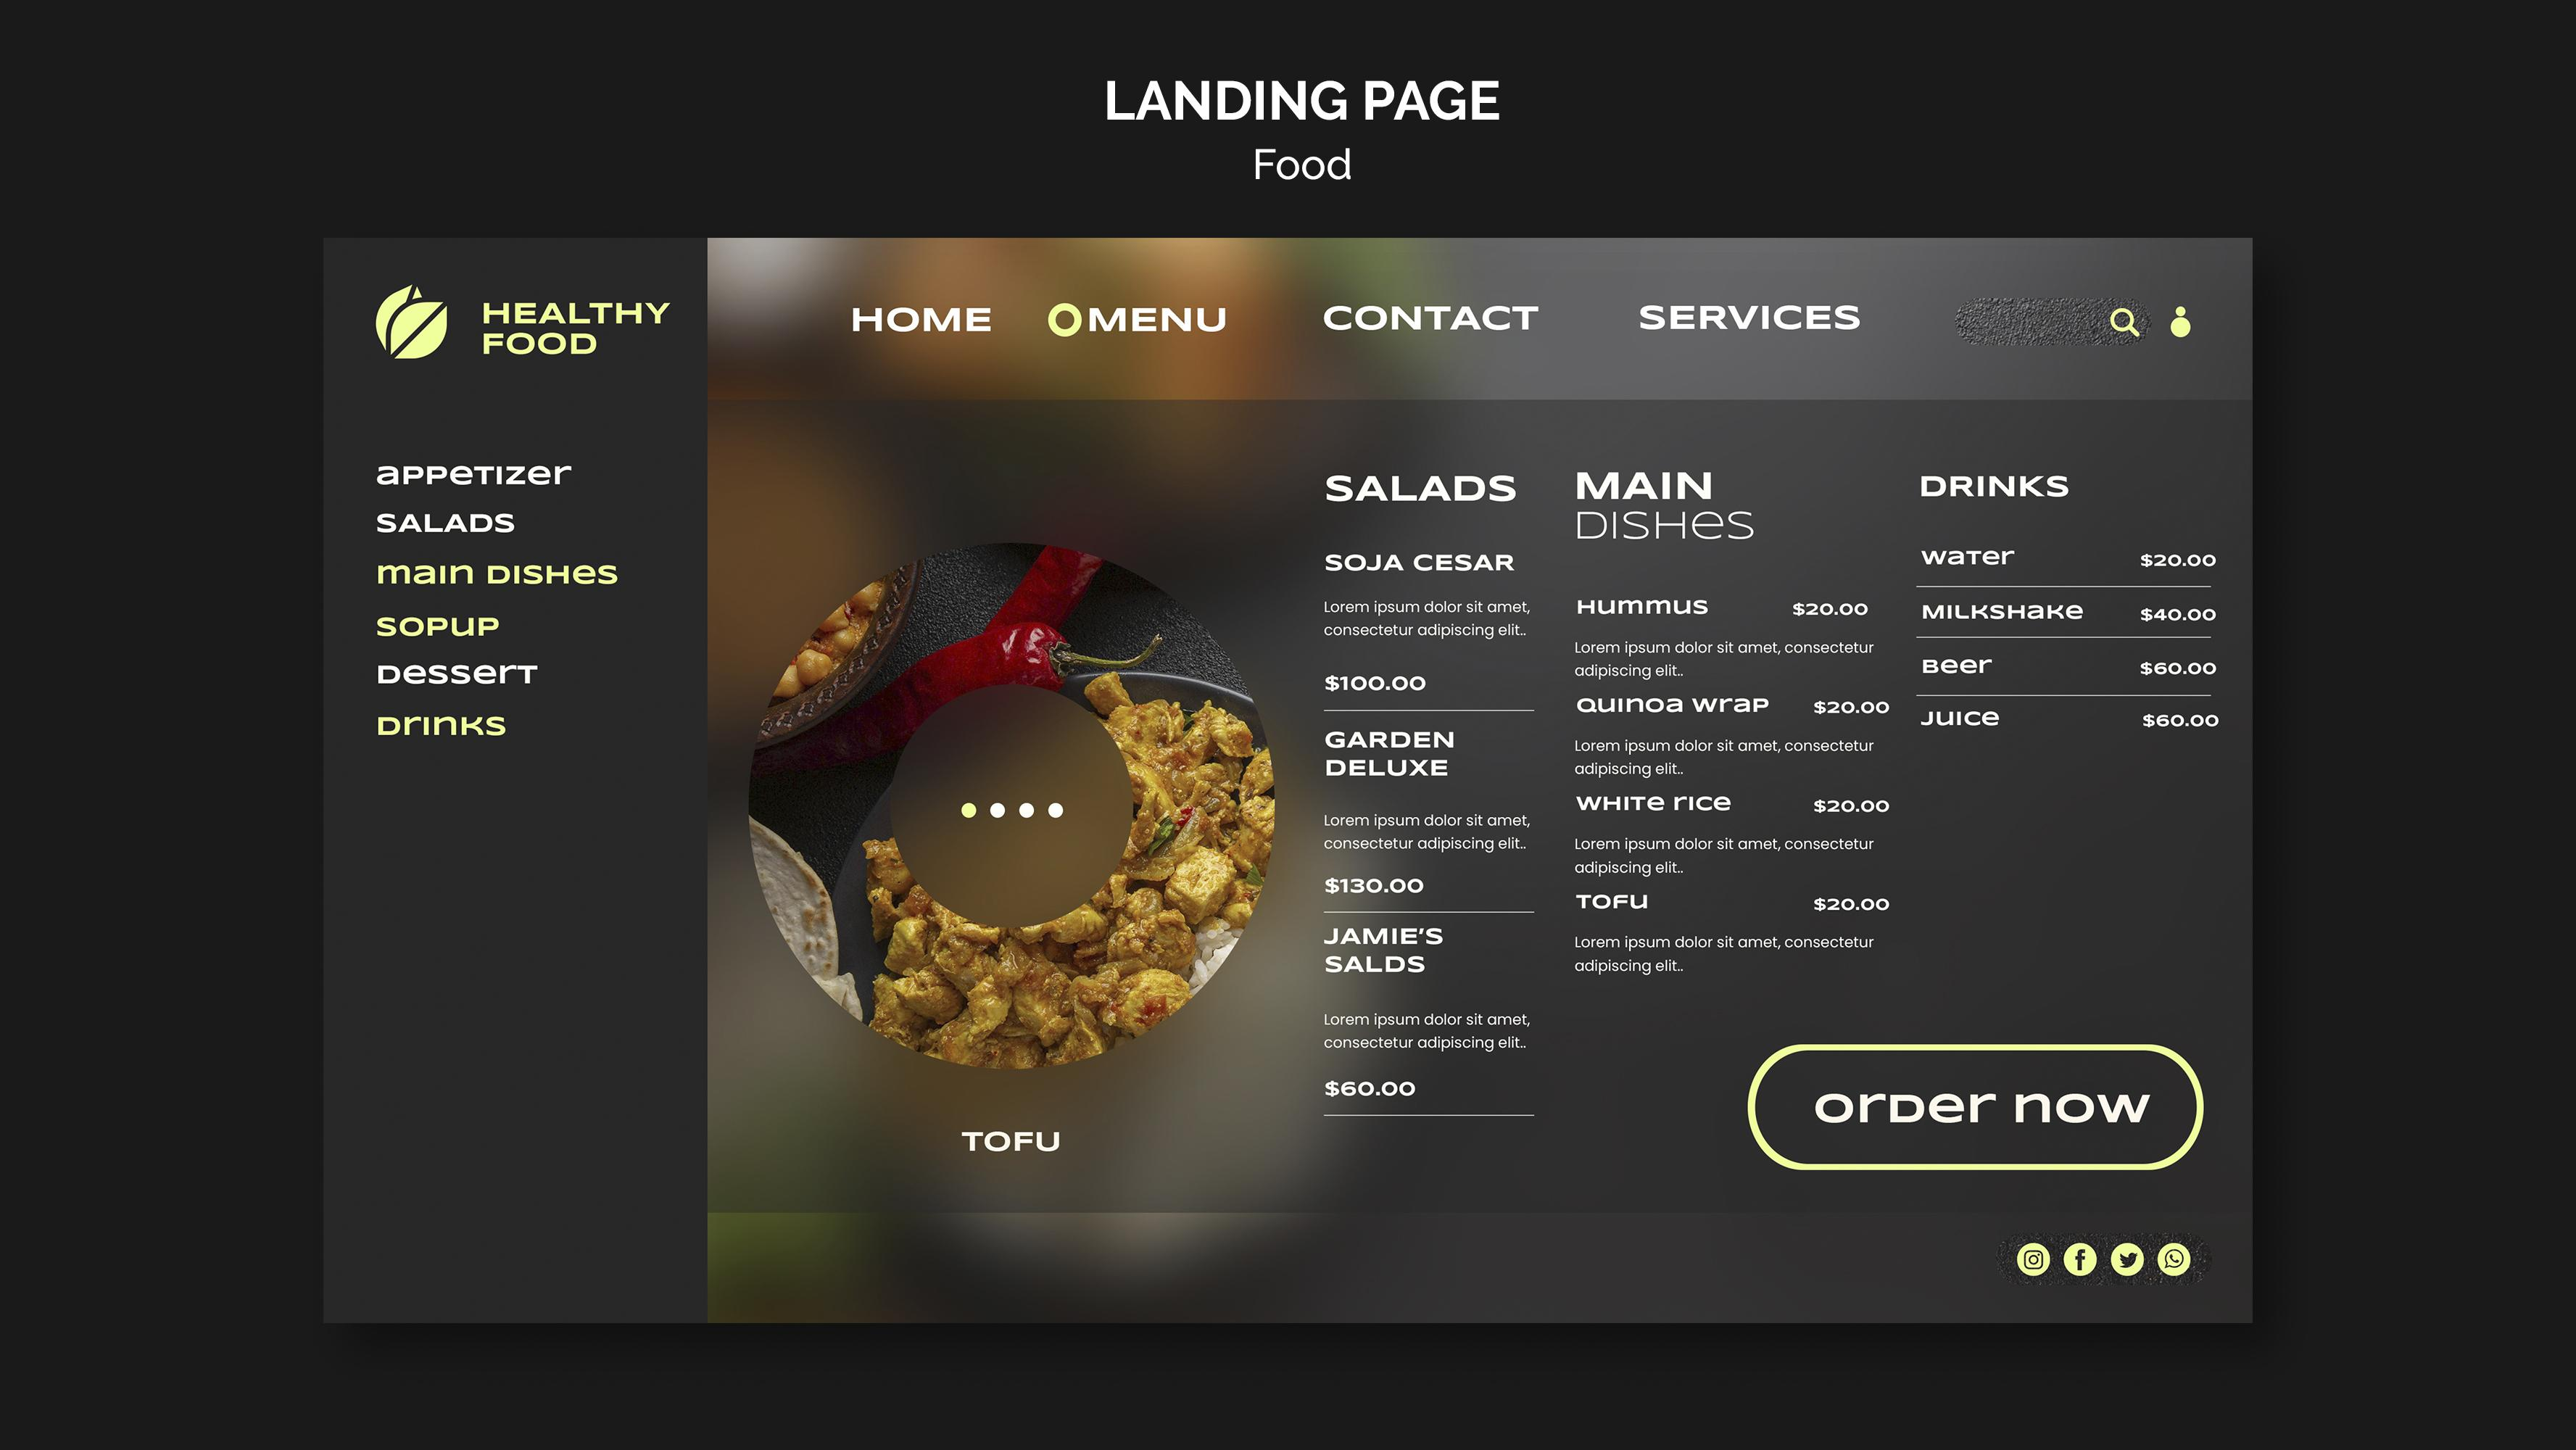menu: (338, 248, 2226, 456)
